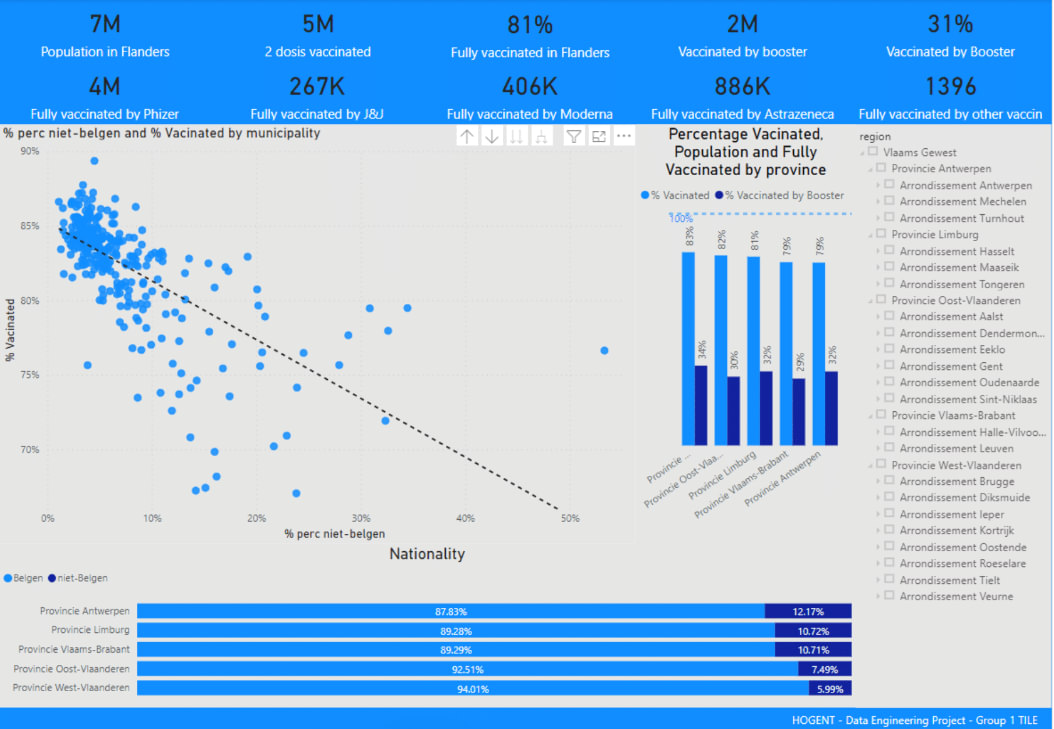

The dashboard page shown, as its layout file describes it:
{"tool":"powerbi","page":{"name":"ScatterVac%NietBelg","canvas":[1280,890],"ordinal":1},"visuals":[{"type":"textbox","box":[945.4,861.8,334.6,38],"z":0},{"type":"card","fields":{"Values":["fact_vaccinations_by_nis_code_daily_updated.% Vacinated"]},"box":[515.8,0,258.5,78.6],"z":1000,"group":"g1"},{"type":"scatterChart","fields":{"X":["fact_demographics_by_nis_code_and_category.% perc niet-belgen"],"Category":["region_hierarchy.region Hiërarchie.region","region_hierarchy.region Hiërarchie.province","region_hierarchy.region Hiërarchie.district","region_hierarchy.region Hiërarchie.municipality"],"Y":["fact_vaccinations_by_nis_code_daily_updated.% Vacinated"]},"box":[0,151.8,774,510.6],"z":1000},{"type":"card","fields":{"Values":["Sum(fact_vaccinations_by_nis_code_daily_updated.vaccinated_fully_total)"]},"box":[258.5,0,258.5,76],"z":2000,"group":"g1"},{"type":"HierarchySlicer1458836712039","fields":{"Fields":["region_hierarchy.region Hiërarchie.region","region_hierarchy.region Hiërarchie.province","region_hierarchy.region Hiërarchie.district","region_hierarchy.region Hiërarchie.municipality"]},"box":[1040.7,151.8,238.5,710],"z":2000},{"type":"group","id":"g1","title":"Group 1","box":[0,0,1279.2,152.1],"z":3000},{"type":"card","fields":{"Values":["Sum(fact_vaccinations_by_nis_code_daily_updated.vaccinated_with_booster)"]},"box":[774.3,0,258.5,76],"z":3000,"group":"g1"},{"type":"card","fields":{"Values":["Sum(fact_vaccinations_by_nis_code_daily_updated.vaccinated_fully_pfizer)"]},"box":[0,76,257.3,76],"z":4000,"group":"g1"},{"type":"hundredPercentStackedBarChart","title":"Nationality","fields":{"Category":["region_hierarchy.region Hiërarchie.region","region_hierarchy.region Hiërarchie.province","region_hierarchy.region Hiërarchie.district","region_hierarchy.region Hiërarchie.municipality"],"Y":["Sum(fact_demographics_by_nis_code_and_category.population)"],"Series":["fact_demographics_by_nis_code_and_category.nationality_text_nl"]},"box":[0,662.4,1040.7,199.5],"z":4000},{"type":"card","fields":{"Values":["Sum(fact_vaccinations_by_nis_code_daily_updated.vaccinated_fully_astrazeneca)"]},"box":[774,75.9,259.1,75.9],"z":5000,"group":"g1"},{"type":"clusteredColumnChart","title":"Percentage Vacinated, Population and Fully Vaccinated by province","fields":{"Category":["region_hierarchy.region Hiërarchie.province","region_hierarchy.region Hiërarchie.district","region_hierarchy.region Hiërarchie.municipality"],"Y":["fact_vaccinations_by_nis_code_daily_updated.% Vacinated","fact_vaccinations_by_nis_code_daily_updated.% Vaccinated by Booster"]},"box":[774,151.8,266.7,510.6],"z":5000},{"type":"card","fields":{"Values":["Sum(fact_vaccinations_by_nis_code_daily_updated.vaccinated_fully_johnsonandjohnson)"]},"box":[256.9,75.9,259.1,75.9],"z":6000,"group":"g1"},{"type":"card","fields":{"Values":["Sum(fact_vaccinations_by_nis_code_daily_updated.vaccinated_fully_moderna)"]},"box":[516,75.9,258,75.9],"z":7000,"group":"g1"},{"type":"card","fields":{"Values":["Sum(fact_vaccinations_by_nis_code_daily_updated.population_by_agecategory_and_municipality)"]},"box":[0,0,258.5,75.6],"z":8000,"group":"g1"},{"type":"card","fields":{"Values":["Sum(fact_vaccinations_by_nis_code_daily_updated.vaccinated_fully_other)"]},"box":[1033.1,75.9,246.1,75.9],"z":9000,"group":"g1"},{"type":"card","fields":{"Values":["fact_vaccinations_by_nis_code_daily_updated.% Vaccinated by Booster"]},"box":[1032.9,0,245.9,76],"z":10000,"group":"g1"}]}

Visuals, with their boxes in screenshot pixels (x1, y1, x2, y2), scaled from the page's 1280x890 canvas onto the 1054x729 screenshot:
textbox: rect(778, 706, 1053, 728)
card - fact_vaccinations_by_nis_code_daily_updated.% Vacinated: rect(425, 0, 638, 64)
scatterChart - fact_demographics_by_nis_code_and_category.% perc niet-belgen x region_hierarchy.region Hiërarchie.region: rect(0, 124, 637, 543)
card - Sum(fact_vaccinations_by_nis_code_daily_updated.vaccinated_fully_total): rect(213, 0, 426, 62)
HierarchySlicer1458836712039 - region_hierarchy.region Hiërarchie.region x region_hierarchy.region Hiërarchie.province: rect(857, 124, 1053, 706)
"Group 1" group: rect(0, 0, 1053, 125)
card - Sum(fact_vaccinations_by_nis_code_daily_updated.vaccinated_with_booster): rect(638, 0, 850, 62)
card - Sum(fact_vaccinations_by_nis_code_daily_updated.vaccinated_fully_pfizer): rect(0, 62, 212, 125)
"Nationality" hundredPercentStackedBarChart: rect(0, 543, 857, 706)
card - Sum(fact_vaccinations_by_nis_code_daily_updated.vaccinated_fully_astrazeneca): rect(637, 62, 851, 124)
"Percentage Vacinated, Population and Fully Vaccinated by province" clusteredColumnChart: rect(637, 124, 857, 543)
card - Sum(fact_vaccinations_by_nis_code_daily_updated.vaccinated_fully_johnsonandjohnson): rect(212, 62, 425, 124)
card - Sum(fact_vaccinations_by_nis_code_daily_updated.vaccinated_fully_moderna): rect(425, 62, 637, 124)
card - Sum(fact_vaccinations_by_nis_code_daily_updated.population_by_agecategory_and_municipality): rect(0, 0, 213, 62)
card - Sum(fact_vaccinations_by_nis_code_daily_updated.vaccinated_fully_other): rect(851, 62, 1053, 124)
card - fact_vaccinations_by_nis_code_daily_updated.% Vaccinated by Booster: rect(851, 0, 1053, 62)
